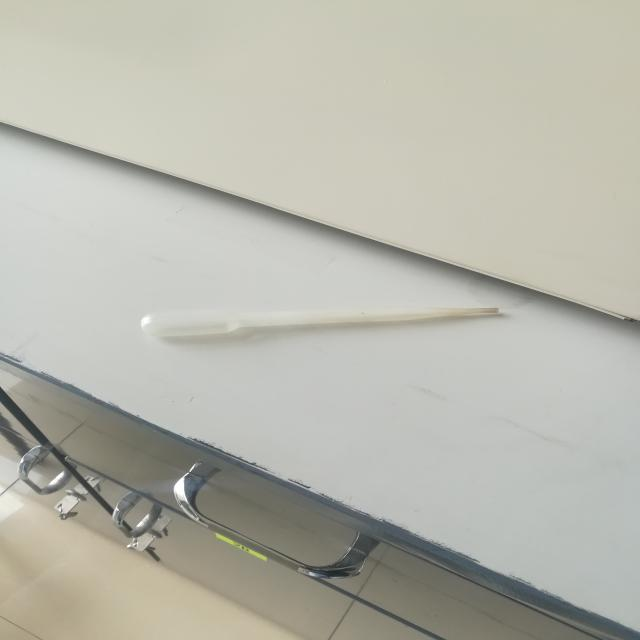Pipette: (114, 263, 520, 399)
